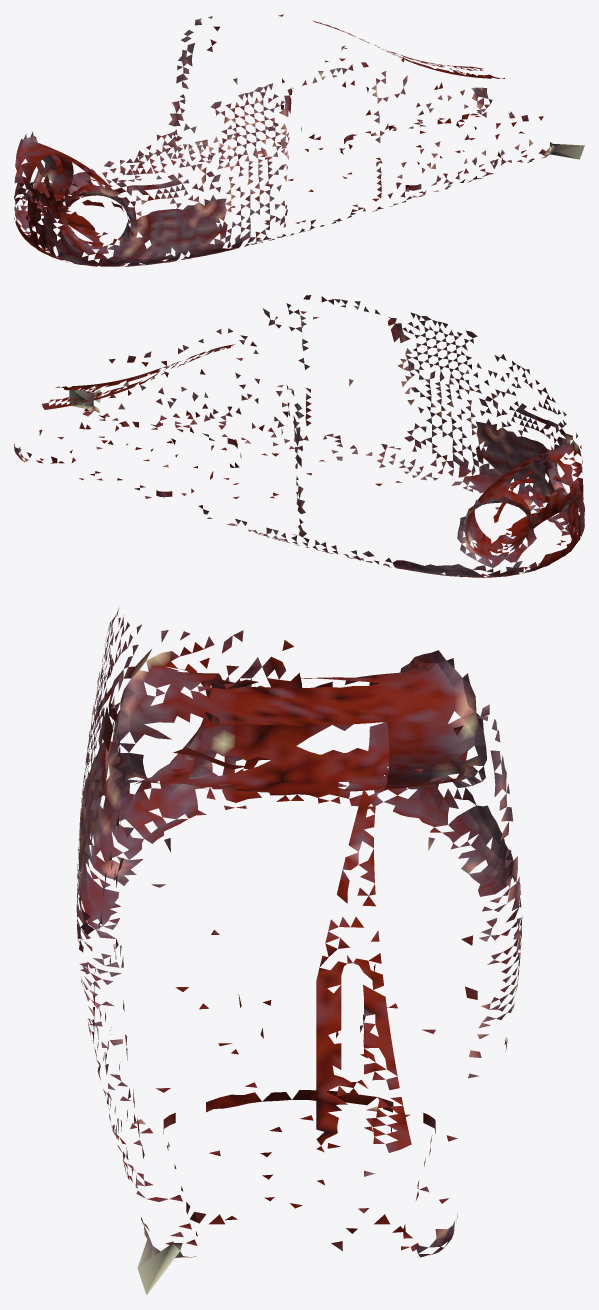
3 renders of one model, top to bottom at view 1: azimuth 30°, elevation 25°; view 2: azimuth 150°, elevation 25°; view 3: azimuth 270°, elevation 25°, orthographic. The views are drawn at different scales.
Bounding box in the file's own units: 2 × 0.592 × 0.7494.
